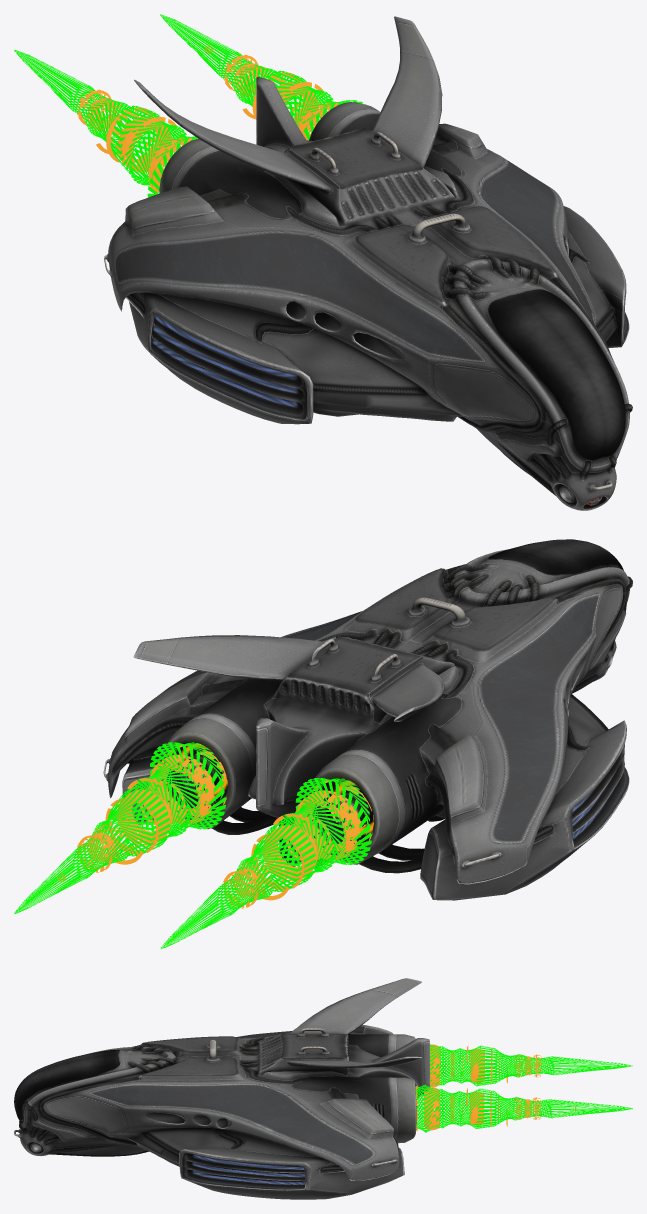
Rendered from spaceship.glb.
3 renders of one model, top to bottom at view 1: azimuth 30°, elevation 25°; view 2: azimuth 150°, elevation 25°; view 3: azimuth 270°, elevation 25°, orthographic. The views are drawn at different scales.
Visible parts, largest first — view 1: Baked Animations Intergalactic_Spaceships_Version_2, Circle, Circle.001, Torus.002, Torus.006, Torus.003, Torus.001; view 2: Baked Animations Intergalactic_Spaceships_Version_2, Circle, Circle.001, Torus.006, Torus.002, Torus.005, Torus.003, Torus.007, Torus.001; view 3: Baked Animations Intergalactic_Spaceships_Version_2, Circle.001, Circle, Torus.005, Torus.002, Torus.006, Torus.003, Torus.007, Torus.001.
Part boxes in pixels (<box>): Baked Animations Intergalactic_Spaceships_Version_2: <box>104,16,632,510</box>; Circle: <box>14,49,197,197</box>; Circle.001: <box>160,14,366,140</box>; Torus.002: <box>78,90,177,172</box>; Torus.006: <box>225,55,323,132</box>; Torus.003: <box>144,137,195,192</box>; Torus.001: <box>77,89,127,137</box>; Baked Animations Intergalactic_Spaceships_Version_2: <box>103,539,632,900</box>; Circle: <box>160,778,371,948</box>; Circle.001: <box>14,742,225,913</box>; Torus.006: <box>78,778,171,871</box>; Torus.002: <box>223,814,317,907</box>; Torus.005: <box>146,745,227,824</box>; Torus.003: <box>293,781,373,860</box>; Torus.007: <box>76,824,127,872</box>; Torus.001: <box>223,860,273,908</box>; Baked Animations Intergalactic_Spaceships_Version_2: <box>14,978,429,1199</box>; Circle.001: <box>415,1084,632,1132</box>; Circle: <box>430,1044,632,1087</box>; Torus.005: <box>415,1085,454,1131</box>; Torus.002: <box>462,1046,536,1083</box>; Torus.006: <box>462,1088,536,1126</box>; Torus.003: <box>430,1044,454,1087</box>; Torus.007: <box>514,1097,540,1119</box>; Torus.001: <box>514,1054,541,1077</box>.
Size of the model in its own units: 5.98 by 3.1 by 12.64.
3 materials, 1 textured.
